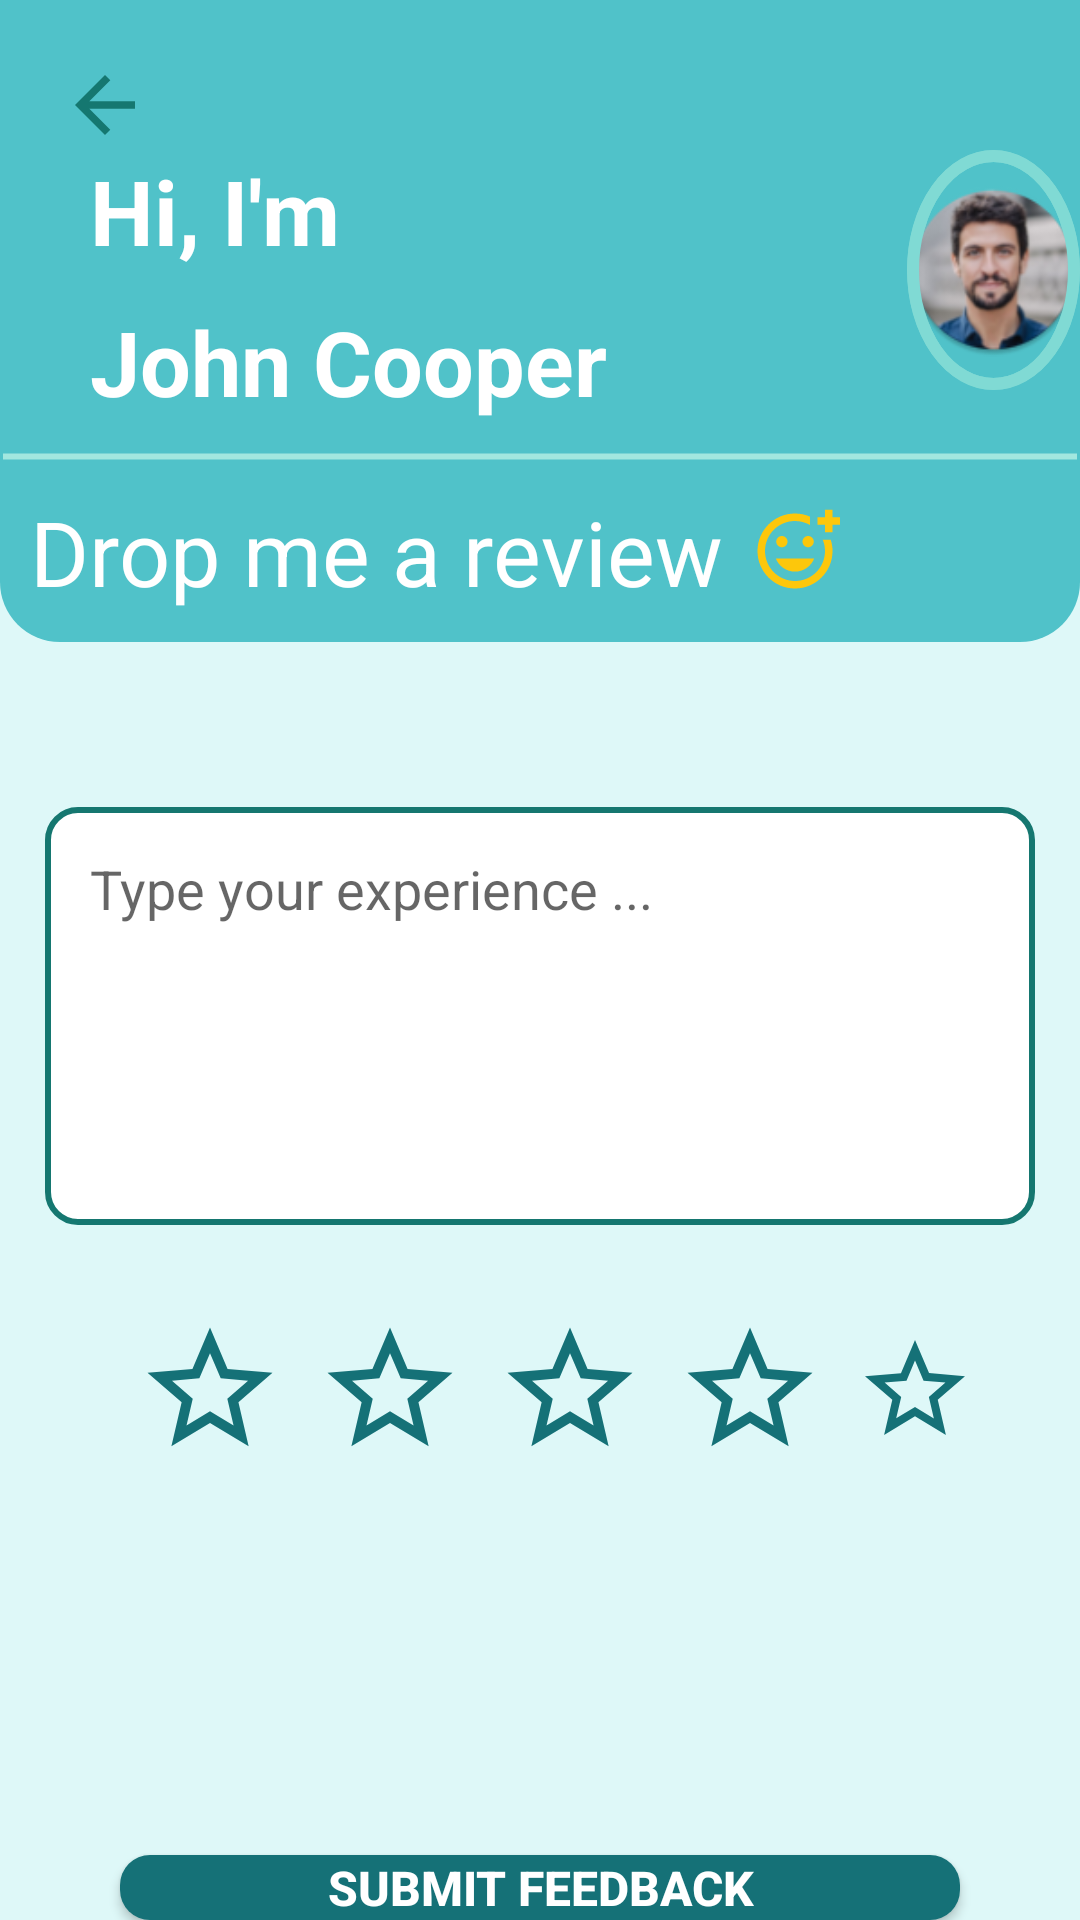

Locate icon controls on the screen. Image size 1080 x 1920, boxes as (x1, y1, x2, y2).
add reaction: (757, 509, 840, 589)
arrow back: (75, 75, 135, 135)
star: (148, 1328, 272, 1446), (328, 1328, 452, 1446), (508, 1328, 632, 1446), (688, 1328, 812, 1446), (865, 1340, 965, 1435)
